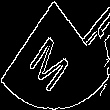M_NE: (30, 21, 80, 89)
